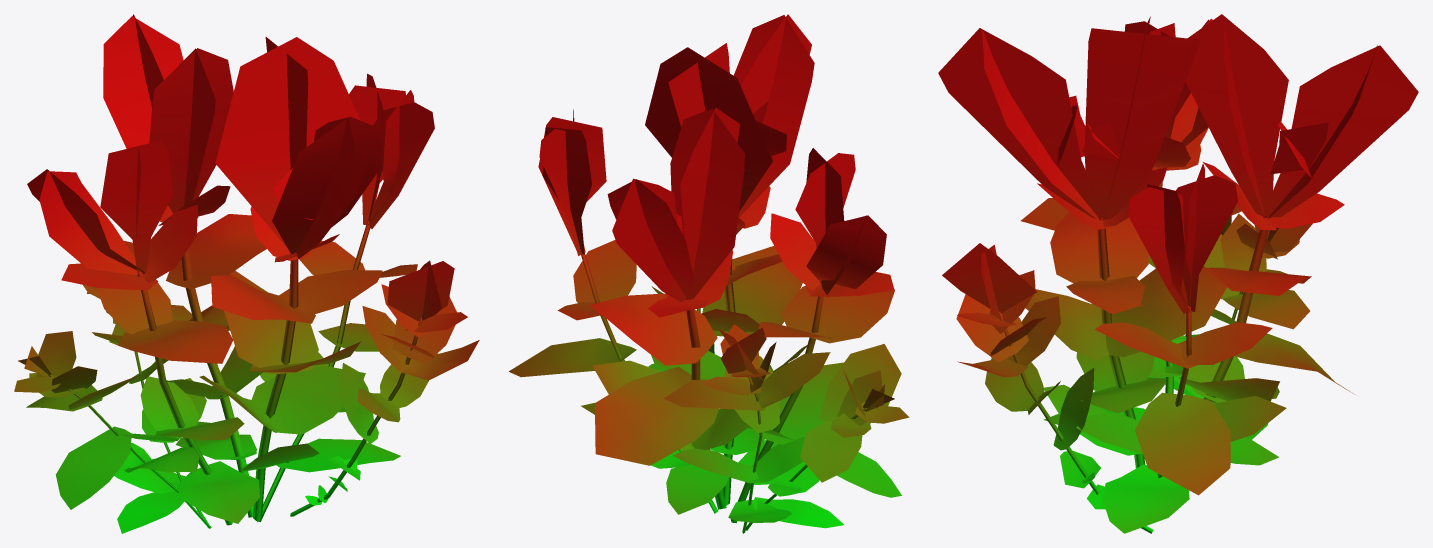
The model's file is Rubber Bush_LOD5_Var1_xffhfekia.fbx.
3 views of the same model, side by side, from view 1: azimuth 30°, elevation 25°; view 2: azimuth 150°, elevation 25°; view 3: azimuth 270°, elevation 25° (orthographic). The views are drawn at different scales.
Visible parts, largest first — view 1: _5uhx_Var1_LOD5; view 2: _5uhx_Var1_LOD5; view 3: _5uhx_Var1_LOD5.
Boxes of the visible parts, x1=… form: _5uhx_Var1_LOD5: x1=14, y1=14, x2=479, y2=533; _5uhx_Var1_LOD5: x1=509, y1=14, x2=909, y2=533; _5uhx_Var1_LOD5: x1=938, y1=14, x2=1418, y2=533.
Size of the model in its own units: 77.25 by 84.55 by 71.83.
